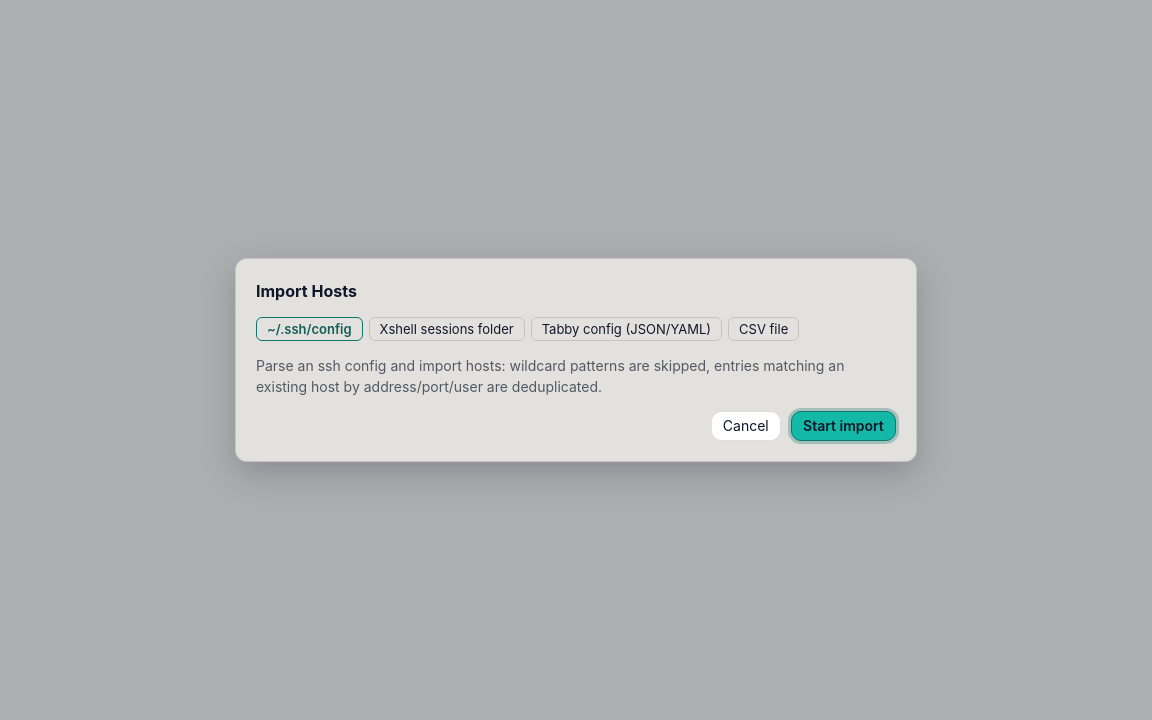
Test: ImportDialog › CSV 源：文件必选；回导入经 import_hosts_csv 并展示报告
Click the radio button with test id "import-source-csv". click: (764, 328)
box: 728,316 -> 799,340
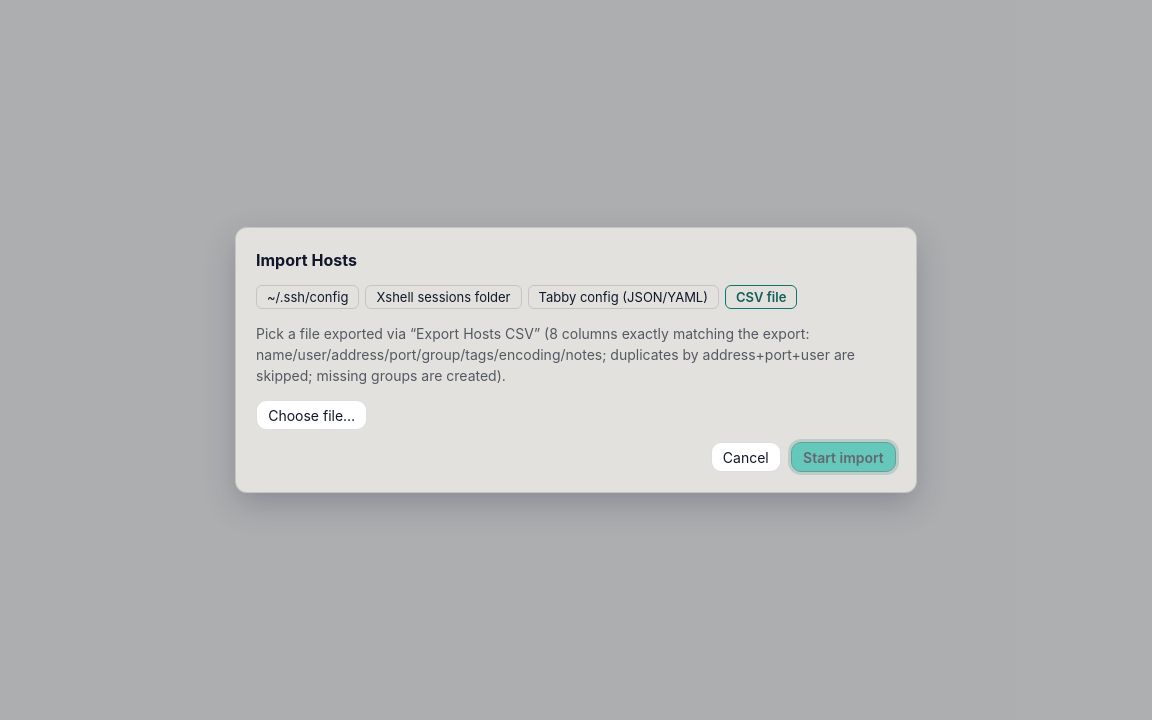
Expected: the button with test id "import-start" is disabled, 791,442 -> 896,472
Click the button with test id "import-pick". click: (312, 415)
box: 256,400 -> 367,430
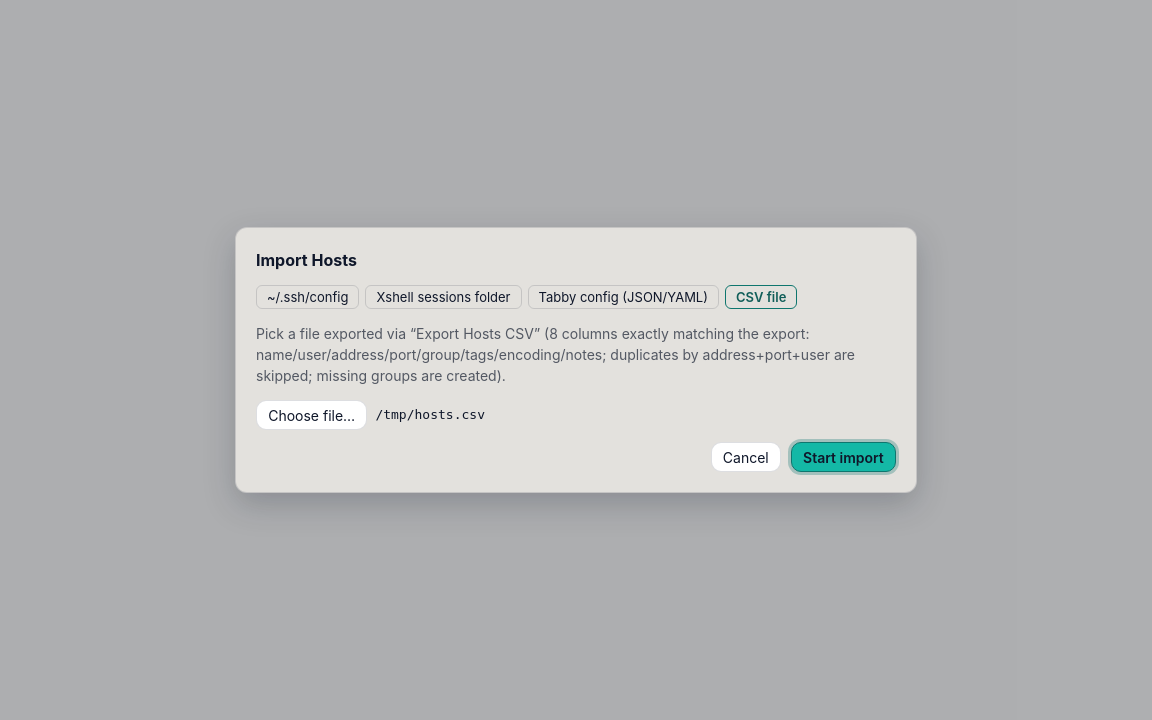
Expected: the button with test id "import-start" is enabled
Click the button with test id "import-start". click: (843, 457)
box: 791,442 -> 896,472
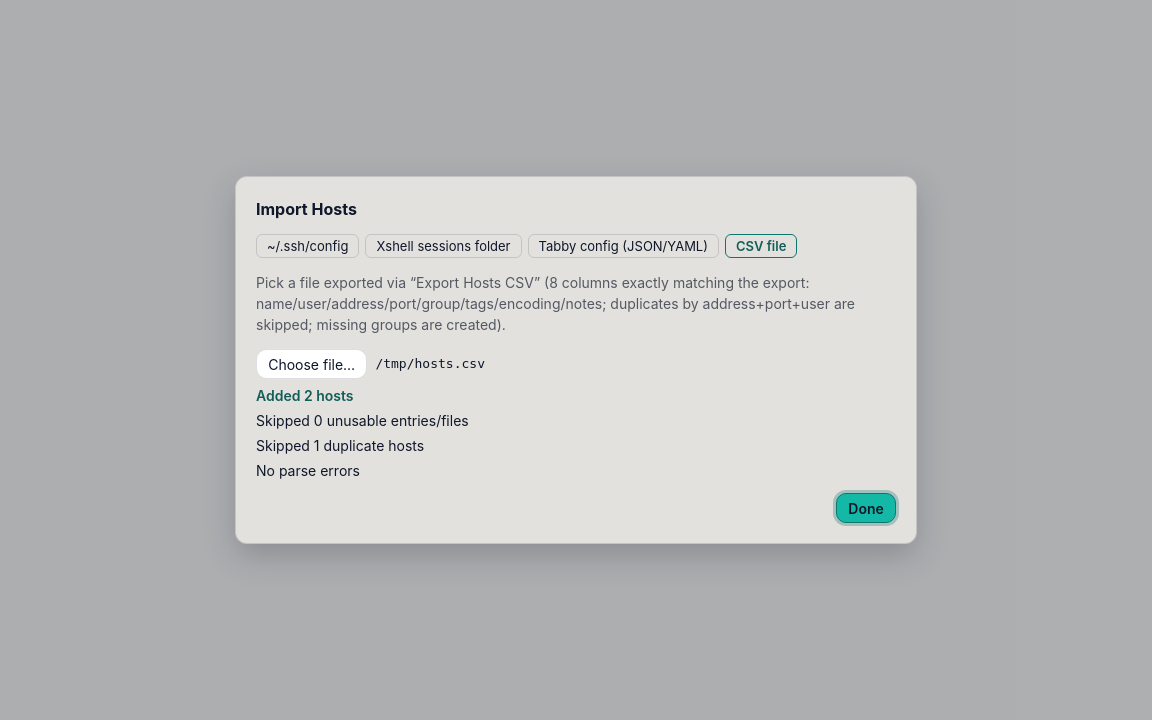
Expected: the element with test id "import-report" is shown, 256,387 -> 469,479
Expected: the element with test id "import-report" shows "2", 256,387 -> 354,404
Expected: the element with test id "import-report" shows "1", 256,437 -> 424,454
